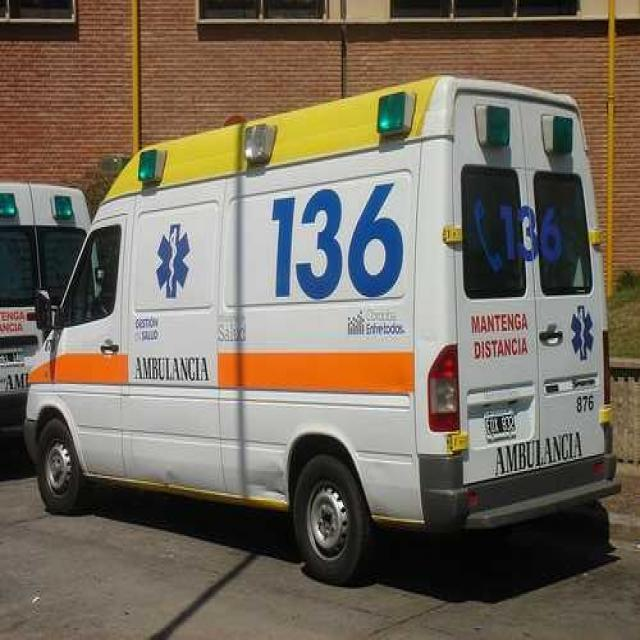emergency-vehicle: (15, 77, 626, 572)
